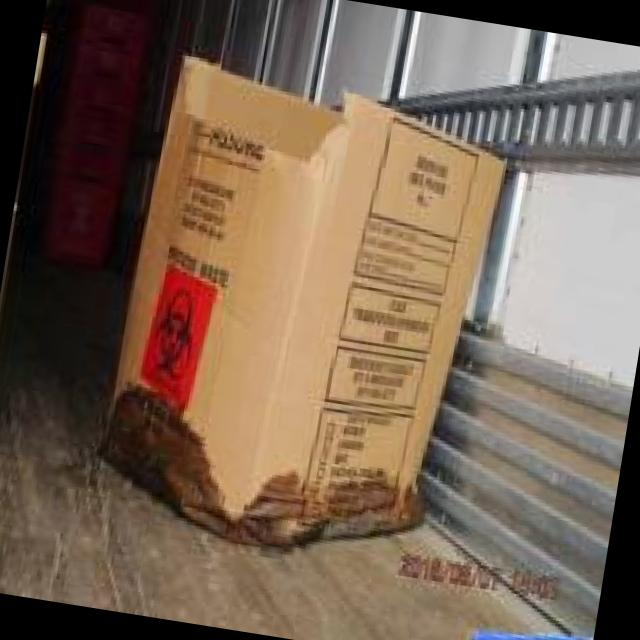crushed: (179, 59, 352, 164)
opened: (90, 390, 441, 550)
